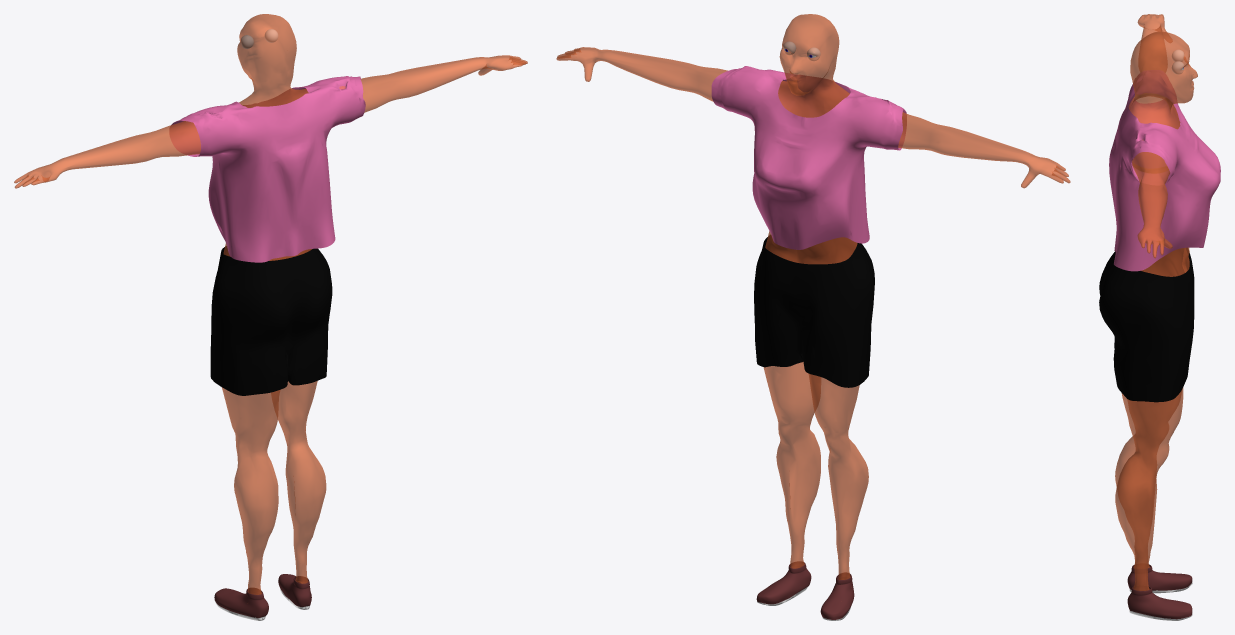
The model's file is character_clothed.fbx.
The picture shows the model from 3 angles, left to right: view 1: azimuth 30°, elevation 25°; view 2: azimuth 150°, elevation 25°; view 3: azimuth 270°, elevation 25°; orthographic projection. The views are drawn at different scales.
Visible parts, largest first — view 1: simply_coll.001, simply_cloth.003, simply_cloth.002, Cube.002; view 2: simply_coll.001, simply_cloth.003, simply_cloth.002, Cube.002; view 3: simply_coll.001, simply_cloth.003, simply_cloth.002, Cube.002, Sphere.001.
Boxes of the visible parts, <box> form: simply_coll.001: <box>14,14,527,603</box>; simply_cloth.003: <box>170,76,365,262</box>; simply_cloth.002: <box>210,246,332,395</box>; Cube.002: <box>214,574,311,620</box>; simply_coll.001: <box>556,14,1070,587</box>; simply_cloth.003: <box>711,66,906,249</box>; simply_cloth.002: <box>754,235,874,387</box>; Cube.002: <box>756,562,854,620</box>; simply_coll.001: <box>1115,14,1197,590</box>; simply_cloth.003: <box>1109,70,1220,271</box>; simply_cloth.002: <box>1099,248,1194,402</box>; Cube.002: <box>1127,564,1192,620</box>; Sphere.001: <box>1171,49,1184,74</box>.
Bounding box in the file's own units: 310 × 339 × 65.91.
